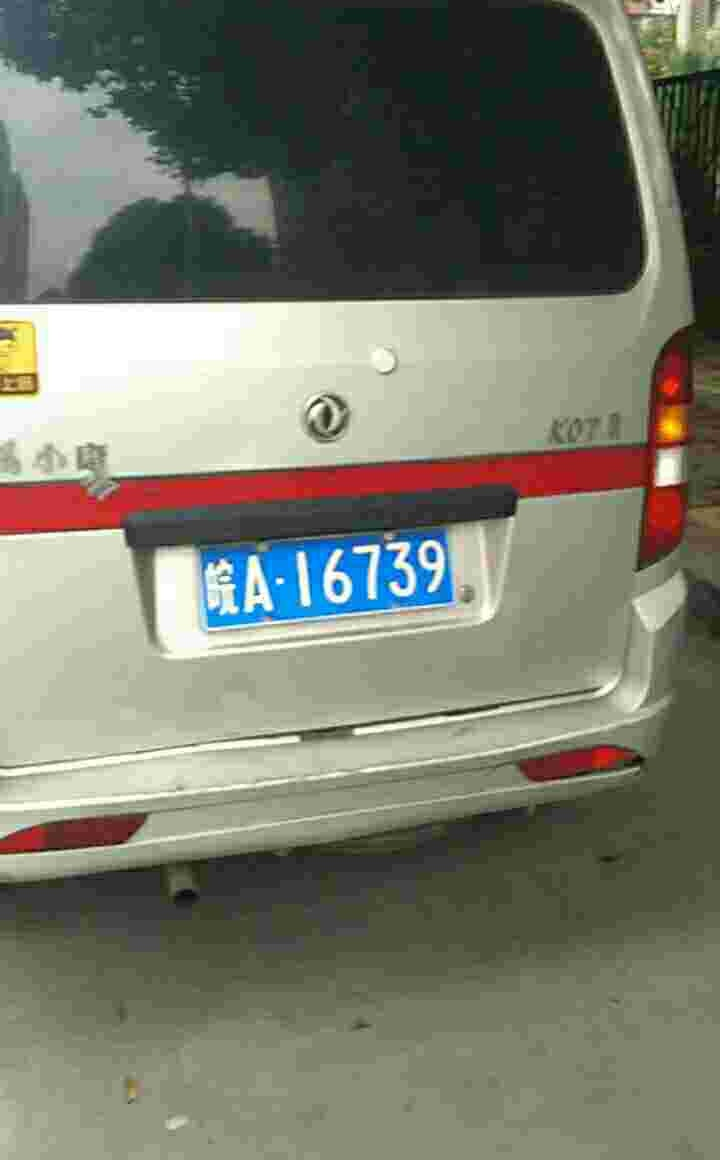license_plate: (198, 537, 450, 627)
